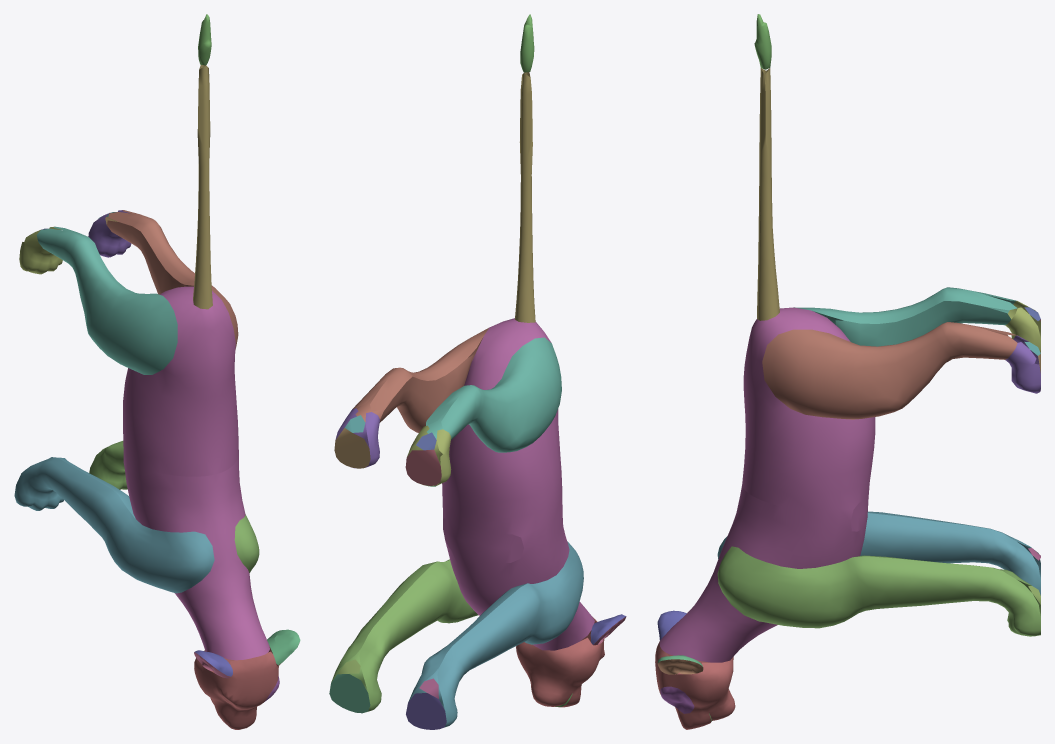
The model's file is Nala6KN.obj.
The picture shows the model from 3 angles, left to right: view 1: azimuth 30°, elevation 25°; view 2: azimuth 150°, elevation 25°; view 3: azimuth 270°, elevation 25°; orthographic projection. The views are drawn at different scales.
Size of the model in its own units: 59.51 by 318 by 156.
